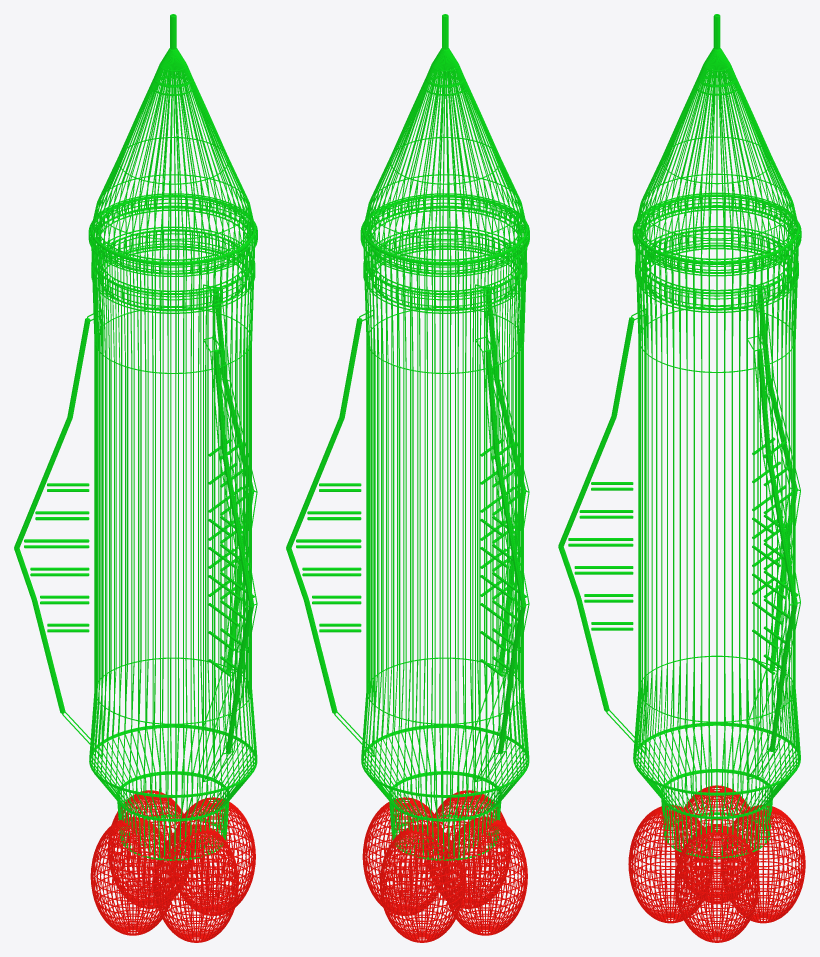
The model's file is mega-missile-highlight-four-directional-thrusters.glb.
The picture shows the model from 3 angles, left to right: view 1: azimuth 30°, elevation 25°; view 2: azimuth 150°, elevation 25°; view 3: azimuth 270°, elevation 25°; orthographic projection.
Parts seen in each view (by area): view 1: chassis technical wire, four-directional-thrusters technical wire, manoeuvring-fins technical wire, nose-guidance-sensors technical wire; view 2: chassis technical wire, four-directional-thrusters technical wire, manoeuvring-fins technical wire, nose-guidance-sensors technical wire; view 3: chassis technical wire, four-directional-thrusters technical wire, manoeuvring-fins technical wire, nose-guidance-sensors technical wire.
Boxes of the visible parts, box(x1,y1,x2,y2) form: chassis technical wire: box(88, 193, 257, 860); four-directional-thrusters technical wire: box(90, 790, 255, 942); manoeuvring-fins technical wire: box(14, 284, 257, 782); nose-guidance-sensors technical wire: box(91, 14, 254, 264); chassis technical wire: box(360, 193, 529, 860); four-directional-thrusters technical wire: box(362, 790, 527, 942); manoeuvring-fins technical wire: box(286, 284, 529, 782); nose-guidance-sensors technical wire: box(363, 14, 526, 264); chassis technical wire: box(632, 192, 801, 858); four-directional-thrusters technical wire: box(628, 785, 805, 942); manoeuvring-fins technical wire: box(558, 284, 800, 779); nose-guidance-sensors technical wire: box(635, 14, 798, 264).
Size of the model in its own units: 1.8 by 6.47 by 1.6.
